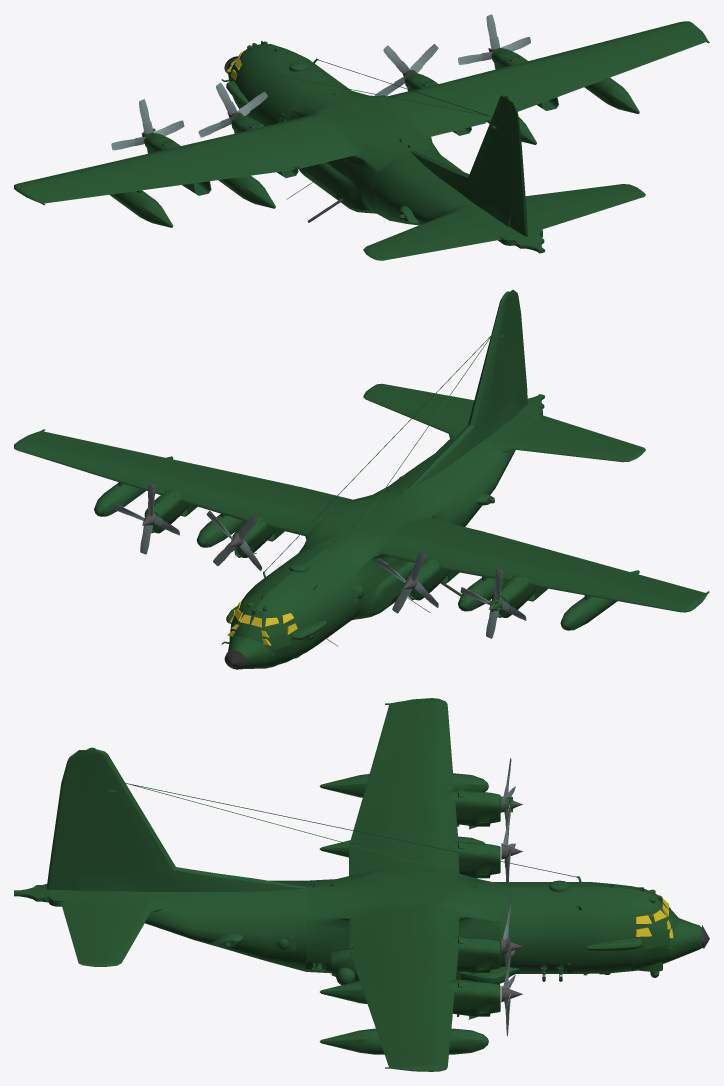
File: ac130anim.fbx
3 renders of one model, top to bottom at view 1: azimuth 30°, elevation 25°; view 2: azimuth 150°, elevation 25°; view 3: azimuth 270°, elevation 25°, orthographic. The views are drawn at different scales.
Visible parts, largest first — view 1: fuselage; view 2: fuselage; view 3: fuselage.
Part boxes in pixels (bbox=[...]): fuselage: bbox=[14, 21, 709, 260]; fuselage: bbox=[14, 289, 709, 669]; fuselage: bbox=[14, 698, 702, 1071].
Bounding box in the file's own units: 354 × 99 × 280.
